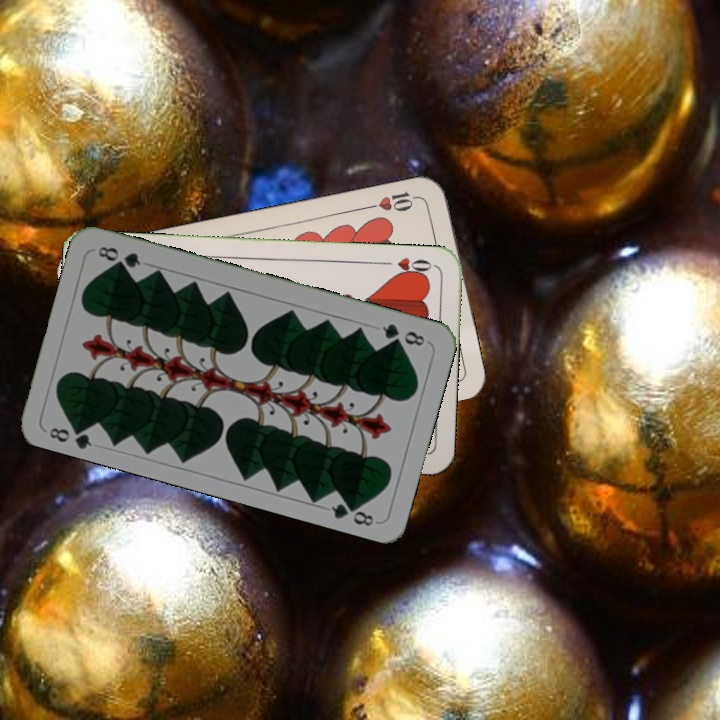G8: (45, 419, 95, 451), (378, 319, 428, 349)
H10: (364, 186, 423, 214)
HO: (377, 254, 436, 280)
